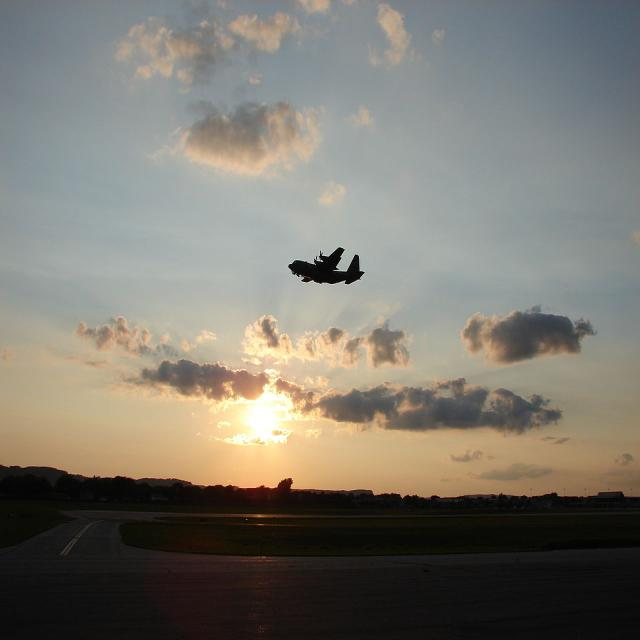MIL_Plane: (288, 247, 365, 284)
